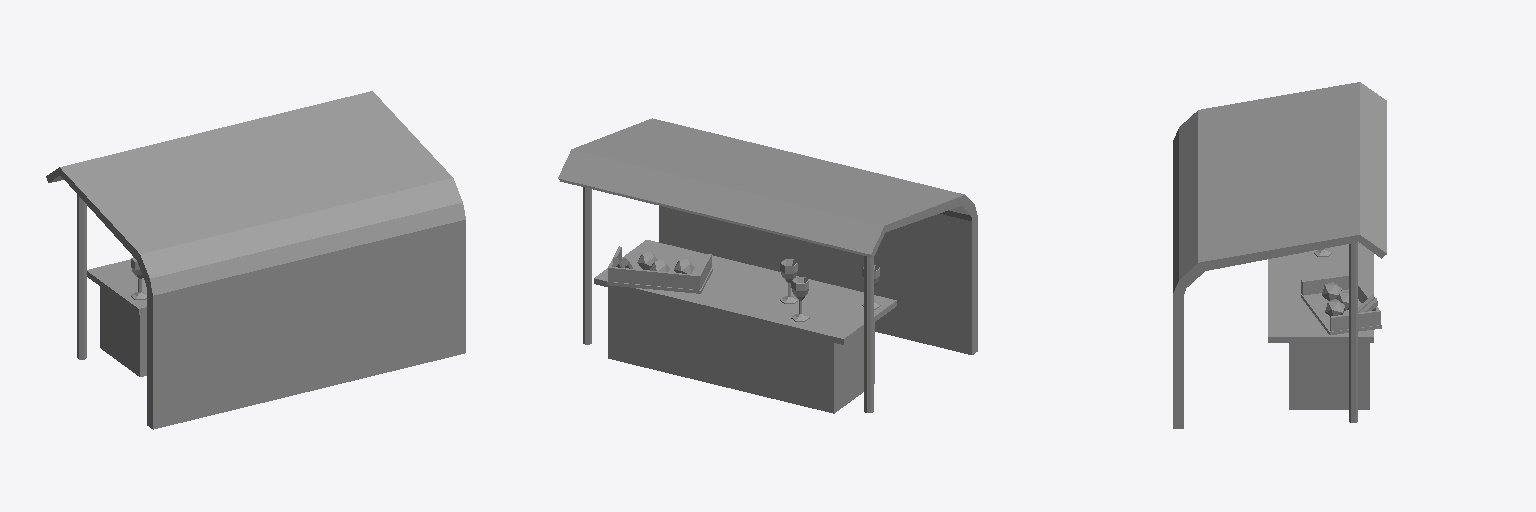
The model's file is stall.obj.
3 renders of one model, left to right at view 1: azimuth 30°, elevation 25°; view 2: azimuth 150°, elevation 25°; view 3: azimuth 270°, elevation 25°, orthographic.
Visible parts, largest first — view 1: Cube; view 2: Cube; view 3: Cube.
Part boxes in pixels (bbox=[...]): Cube: bbox=[46, 91, 465, 429]; Cube: bbox=[558, 118, 977, 413]; Cube: bbox=[1173, 82, 1386, 428].
Size of the model in its own units: 8.92 by 5.32 by 5.29.